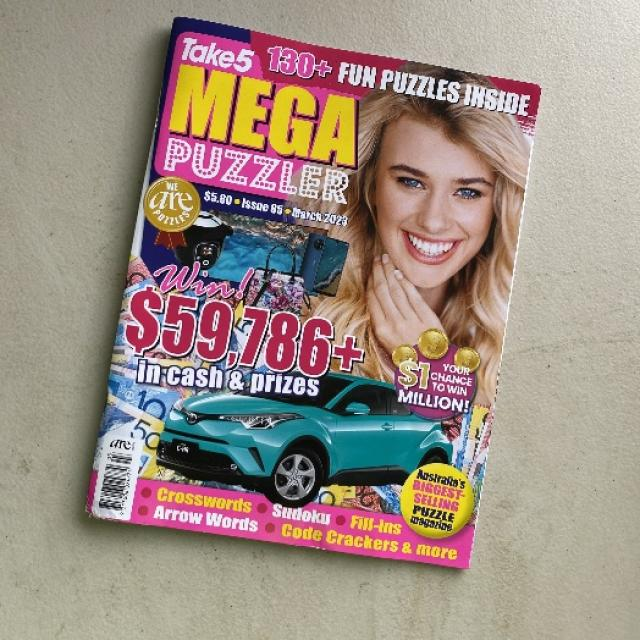paper: (88, 14, 544, 574)
